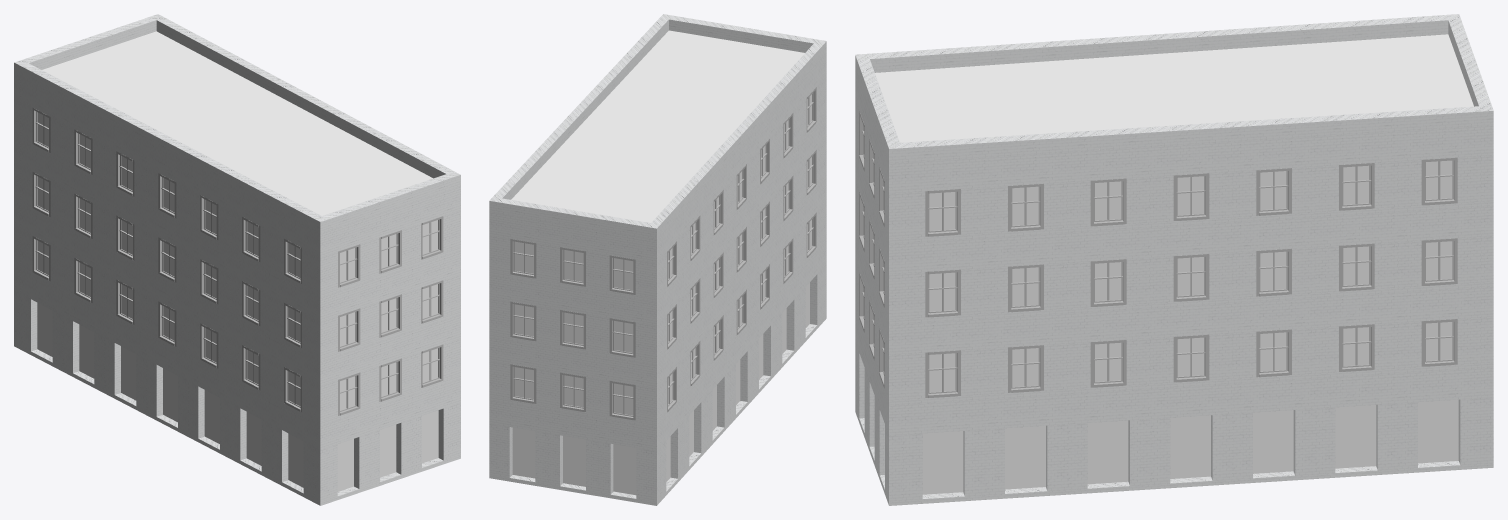
File: clohc4ro403m14p02bjiehgwx_0.glb
3 renders of one model, left to right at view 1: azimuth 30°, elevation 25°; view 2: azimuth 150°, elevation 25°; view 3: azimuth 270°, elevation 25°, orthographic. The views are drawn at different scales.
Parts seen in each view (by area): view 1: mesh_Brick_1, mesh_CityEnginePBRShader, mesh_Glass, mesh_Rim, mesh_Brick; view 2: mesh_Brick_1, mesh_CityEnginePBRShader, mesh_Glass, mesh_Rim, mesh_Brick; view 3: mesh_Brick_1, mesh_CityEnginePBRShader, mesh_Glass, mesh_Brick, mesh_Rim.
Part boxes in pixels (x1,y1,x2,y2): mesh_Brick_1: (14,14,460,505); mesh_CityEnginePBRShader: (42,31,432,215); mesh_Glass: (37,112,438,491); mesh_Rim: (32,108,443,415); mesh_Brick: (21,294,453,499); mesh_Brick_1: (489,14,826,505); mesh_CityEnginePBRShader: (511,30,804,222); mesh_Glass: (512,94,811,495); mesh_Rim: (510,87,816,420); mesh_Brick: (497,268,822,500); mesh_Brick_1: (855,14,1493,505); mesh_CityEnginePBRShader: (875,34,1473,142); mesh_Glass: (922,160,1458,494); mesh_Brick: (856,346,1480,500); mesh_Rim: (859,111,1457,397).
Bounding box in the file's own units: 12.36 × 15.23 × 24.7.
Materials: 5 (2 with a texture image).
